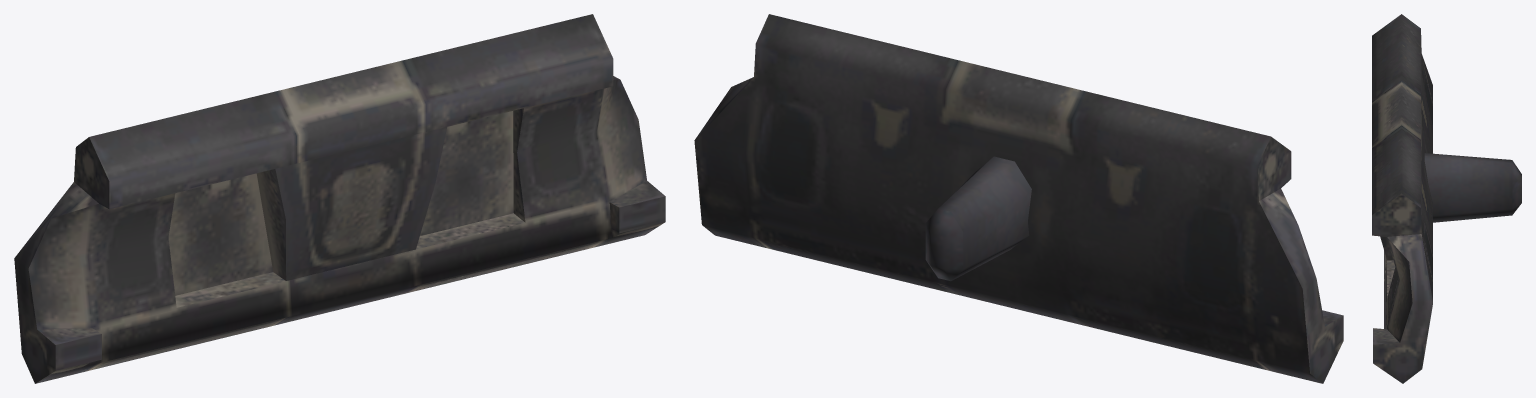
The model's file is T-46_track.glb.
3 views of the same model, side by side, from view 1: azimuth 30°, elevation 25°; view 2: azimuth 150°, elevation 25°; view 3: azimuth 270°, elevation 25° (orthographic). The views are drawn at different scales.
Visible parts, largest first — view 1: set_0_group_0; view 2: set_0_group_0; view 3: set_0_group_0.
Part boxes in pixels (x1=…): set_0_group_0: x1=14, y1=14, x2=665, y2=383; set_0_group_0: x1=694, y1=14, x2=1343, y2=383; set_0_group_0: x1=1372, y1=14, x2=1521, y2=383.
Size of the model in its own units: 0.472 by 0.1734 by 0.1375.
Materials: 1 (1 with a texture image).
